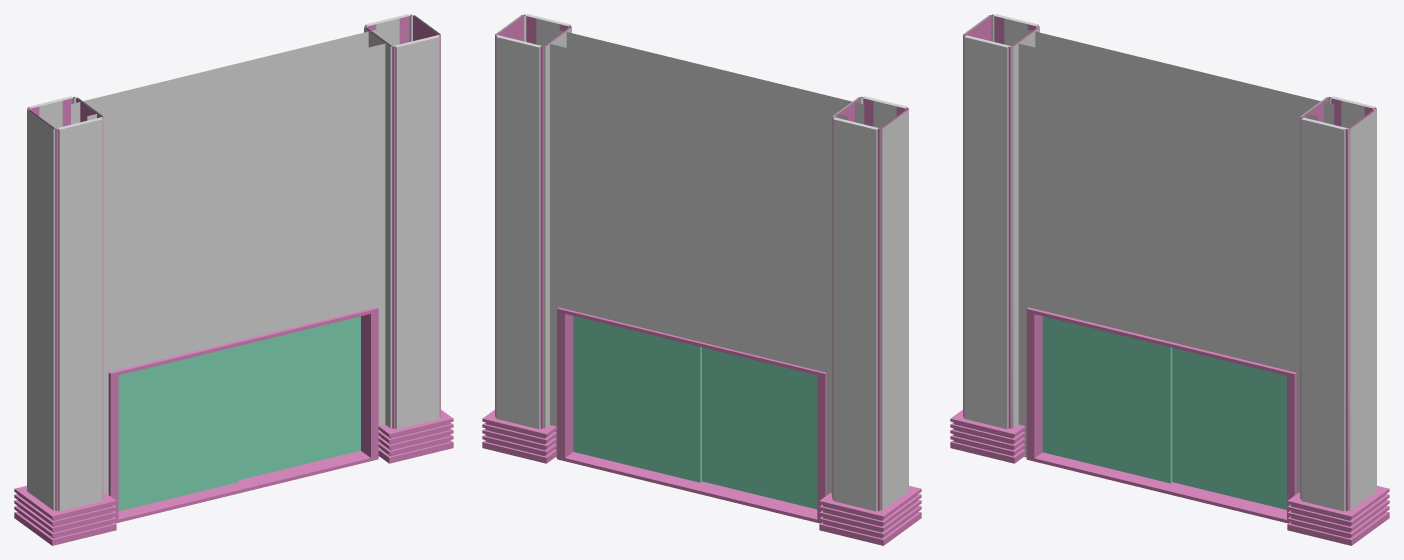
Rendered from Wall3GlassUV.fbx.
3 views of the same model, side by side, from view 1: azimuth 30°, elevation 25°; view 2: azimuth 150°, elevation 25°; view 3: azimuth 330°, elevation 25° (orthographic).
Visible parts, largest first — view 1: Plane, Cube.008, Cube.002, Cube.010, Cube.001; view 2: Plane, Cube.008, Cube.010, Cube.002, Cube.001; view 3: Plane, Cube.002, Cube.008, Cube.010, Cube.001.
Boxes of the visible parts, x1,y1,x2,y2 form: Plane: [71, 28, 397, 494]; Cube.008: [14, 96, 116, 545]; Cube.002: [364, 14, 453, 463]; Cube.010: [108, 307, 378, 523]; Cube.001: [118, 346, 238, 511]; Plane: [537, 29, 864, 494]; Cube.008: [819, 96, 921, 545]; Cube.010: [557, 307, 826, 523]; Cube.002: [482, 14, 571, 463]; Cube.001: [702, 347, 817, 509]; Plane: [1007, 29, 1334, 493]; Cube.002: [1287, 96, 1389, 545]; Cube.008: [950, 14, 1039, 463]; Cube.010: [1026, 307, 1296, 523]; Cube.001: [1042, 316, 1172, 483].
Bounding box in the file's own units: 714 × 703 × 117.
